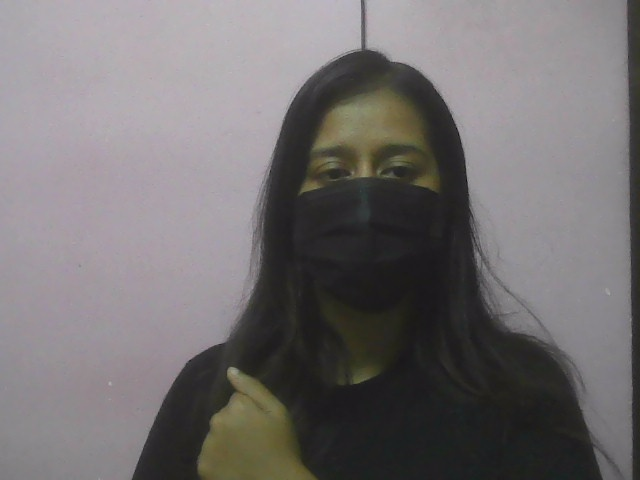Sorry: (178, 360, 311, 479)
